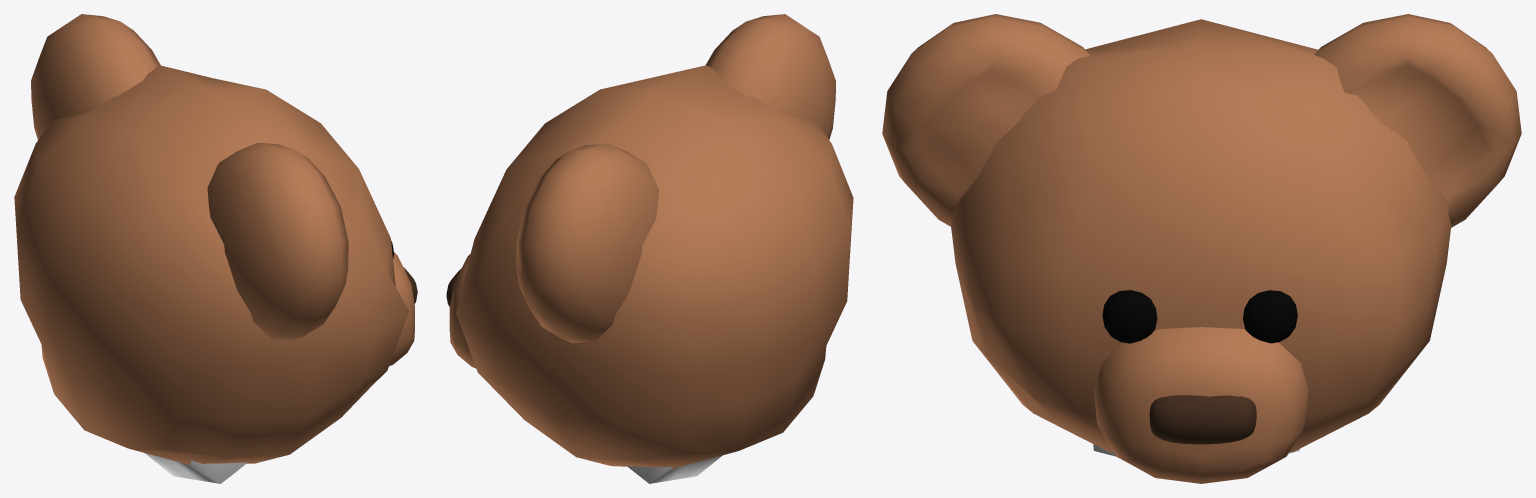
File: teddybearhead.fbx
3 renders of one model, left to right at view 1: azimuth 30°, elevation 25°; view 2: azimuth 150°, elevation 25°; view 3: azimuth 270°, elevation 25°, orthographic. The views are drawn at different scales.
Visible parts, largest first — view 1: Head, Cube, Cube.001, fluff, Cube.002; view 2: Head, Cube.001, Cube, Cube.002, fluff; view 3: Head, Cube.001, Cube, Cube.002, Cube.003, Cube.004, Cube.005.
Boxes of the visible parts, <box> form: Head: <box>14,65,409,464</box>; Cube: <box>207,142,348,340</box>; Cube.001: <box>31,14,160,139</box>; fluff: <box>145,453,247,483</box>; Cube.002: <box>389,252,414,366</box>; Head: <box>456,65,853,468</box>; Cube.001: <box>516,143,658,343</box>; Cube: <box>706,14,835,139</box>; Cube.002: <box>449,254,476,368</box>; fluff: <box>627,455,722,483</box>; Head: <box>951,19,1451,452</box>; Cube.001: <box>1314,14,1521,227</box>; Cube: <box>882,14,1090,226</box>; Cube.002: <box>1094,327,1308,483</box>; Cube.003: <box>1149,395,1256,444</box>; Cube.004: <box>1102,290,1157,343</box>; Cube.005: <box>1243,290,1297,343</box>.
Size of the model in its own units: 270 by 280 by 360.
